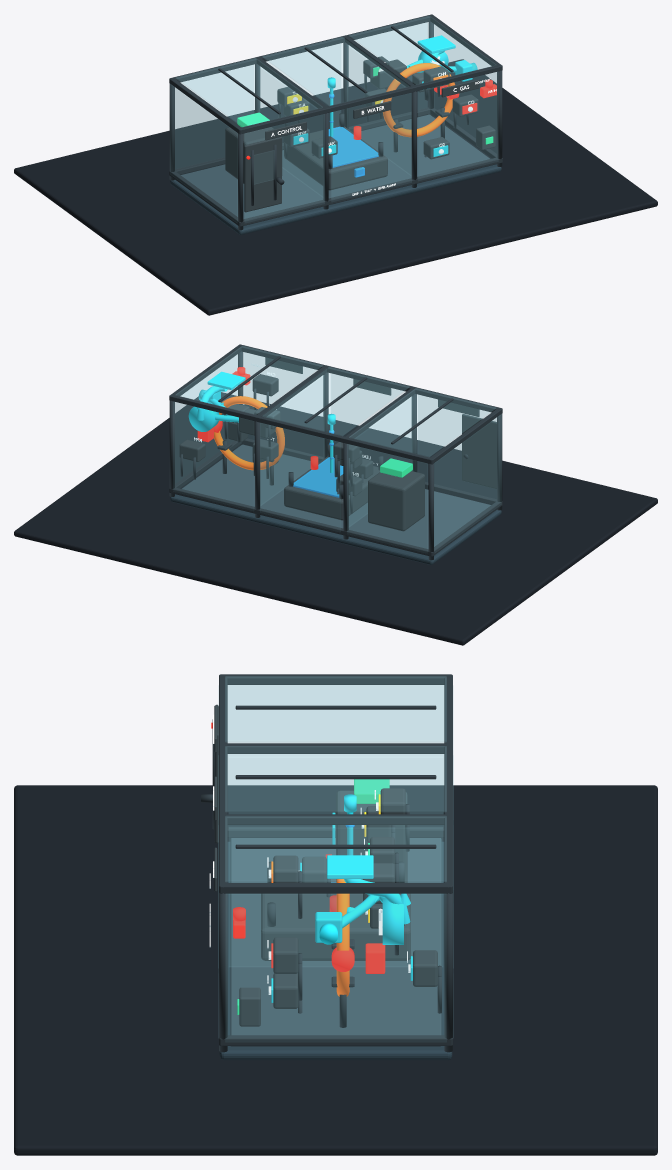
File: utility-tunnel-rectangular-v03.glb
The picture shows the model from 3 angles, top to bottom: view 1: azimuth 30°, elevation 25°; view 2: azimuth 150°, elevation 25°; view 3: azimuth 270°, elevation 25°; orthographic projection. The views are drawn at different scales.
Parts seen in each view (by area): view 1: GROUND, FLOOR_PANEL, ACRYLIC_FRONT_PANEL_1, ACRYLIC_FRONT_PANEL_2, ACRYLIC_END_PANEL, ACRYLIC_ROOF_PANEL_1, ACRYLIC_ROOF_PANEL_0, ACRYLIC_BACK_PANEL_0, ACRYLIC_ROOF_PANEL_2, B_WATER_PARTITION_R, ACRYLIC_FRONT_PANEL_0, B_WATER_PARTITION_L (+25 smaller); view 2: GROUND, FLOOR_PANEL, ACRYLIC_BACK_PANEL_1, ACRYLIC_BACK_PANEL_0, ACRYLIC_BACK_PANEL_2, ACRYLIC_END_PANEL, ACRYLIC_ROOF_PANEL_1, ACRYLIC_ROOF_PANEL_0, ACRYLIC_ROOF_PANEL_2, B_WATER_PARTITION_R, ACRYLIC_FRONT_PANEL_0, B_WATER_PARTITION_L (+29 smaller); view 3: GROUND, ACRYLIC_END_PANEL.001, FLOOR_PANEL, B_WATER_PARTITION_R, ACRYLIC_ROOF_PANEL_0, ACRYLIC_ROOF_PANEL_1, ACRYLIC_ROOF_PANEL_2, ACRYLIC_END_PANEL, B_WATER_PARTITION_L, LEAK_W01_RAISED_TRAY, BASE_1400x650, FRAME_SHORT.003 (+23 smaller).
Part boxes in pixels (box(x1,y1,x2,y2)): GROUND: box(14, 59, 657, 315); FLOOR_PANEL: box(181, 114, 489, 219); ACRYLIC_FRONT_PANEL_1: box(331, 93, 411, 199); ACRYLIC_FRONT_PANEL_2: box(418, 72, 498, 178); ACRYLIC_END_PANEL: box(170, 85, 237, 220); ACRYLIC_ROOF_PANEL_1: box(263, 37, 408, 105); ACRYLIC_ROOF_PANEL_0: box(176, 58, 322, 126); ACRYLIC_BACK_PANEL_0: box(175, 65, 253, 168); ACRYLIC_ROOF_PANEL_2: box(349, 16, 495, 84); B_WATER_PARTITION_R: box(347, 45, 410, 174); ACRYLIC_FRONT_PANEL_0: box(244, 114, 324, 220); B_WATER_PARTITION_L: box(259, 67, 322, 196); GROUND: box(14, 392, 657, 645); FLOOR_PANEL: box(182, 444, 490, 549); ACRYLIC_BACK_PANEL_1: box(260, 423, 340, 529); ACRYLIC_BACK_PANEL_0: box(347, 444, 427, 550); ACRYLIC_BACK_PANEL_2: box(173, 402, 253, 508); ACRYLIC_END_PANEL: box(434, 415, 501, 550); ACRYLIC_ROOF_PANEL_1: box(263, 367, 408, 435); ACRYLIC_ROOF_PANEL_0: box(349, 388, 495, 456); ACRYLIC_ROOF_PANEL_2: box(176, 346, 322, 414); B_WATER_PARTITION_R: box(261, 375, 324, 504); ACRYLIC_FRONT_PANEL_0: box(418, 395, 496, 498); B_WATER_PARTITION_L: box(349, 397, 412, 526); GROUND: box(14, 785, 657, 1155); ACRYLIC_END_PANEL.001: box(226, 894, 445, 1038); FLOOR_PANEL: box(230, 838, 441, 1046); B_WATER_PARTITION_R: box(229, 828, 442, 966); ACRYLIC_ROOF_PANEL_0: box(225, 676, 446, 742); ACRYLIC_ROOF_PANEL_1: box(225, 746, 446, 811); ACRYLIC_ROOF_PANEL_2: box(225, 816, 446, 881); ACRYLIC_END_PANEL: box(228, 685, 443, 813); B_WATER_PARTITION_L: box(229, 757, 442, 826); LEAK_W01_RAISED_TRAY: box(261, 893, 410, 960); BASE_1400x650: box(219, 841, 452, 1060); FRAME_SHORT.003: box(219, 883, 452, 893).
Bounding box in the file's own units: 2.4 × 0.6155 × 1.8.
